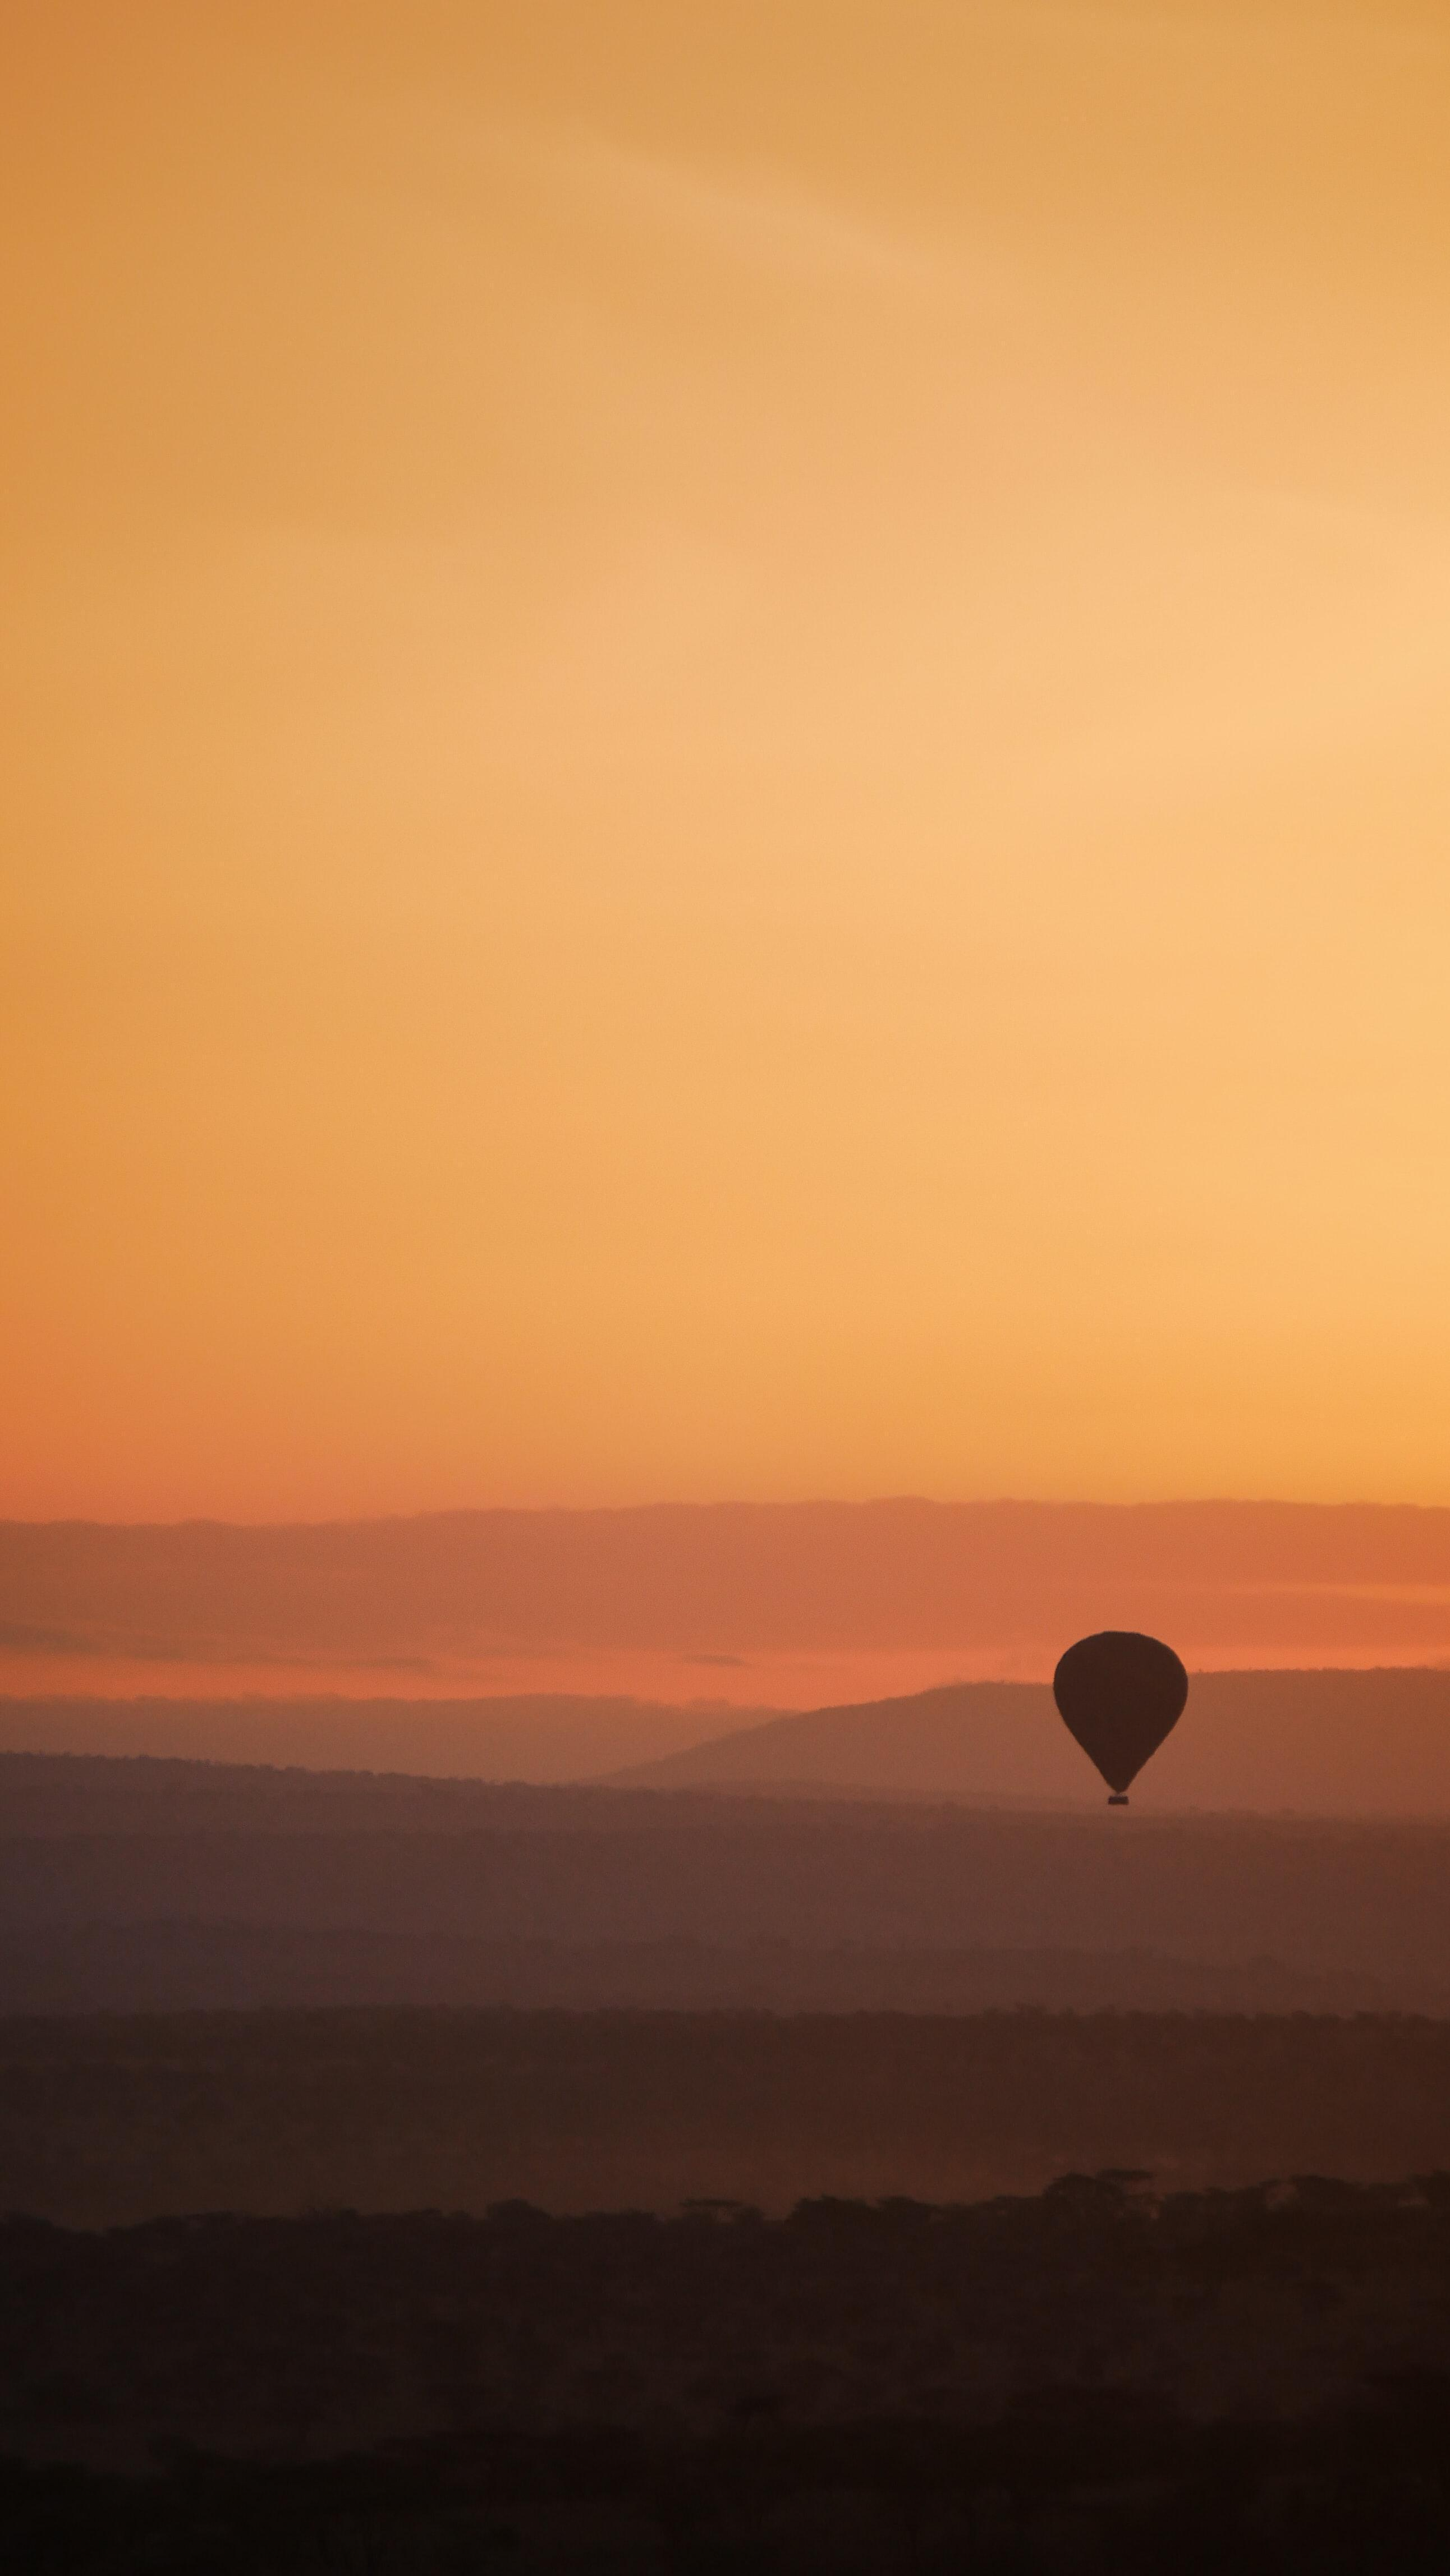hot air ballon: (1053, 1631, 1190, 1805)
